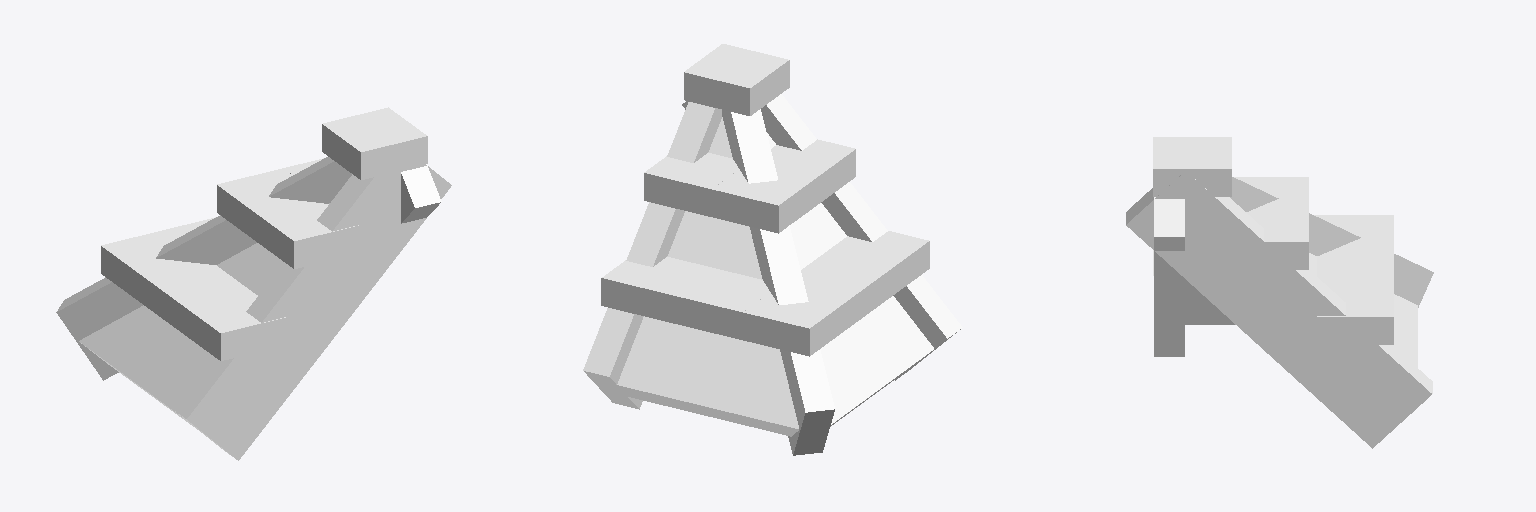
File: mt_steps_b_outer.obj
3 views of the same model, side by side, from view 1: azimuth 30°, elevation 25°; view 2: azimuth 150°, elevation 25°; view 3: azimuth 270°, elevation 25° (orthographic).
Visible parts, largest first — view 1: cube.006, cube.003, cube.007, cube.008, cube.004, cube.005, cube.001; view 2: cube.002, cube.003, cube.007, cube.008, cube, cube.004, cube.001, cube.006, cube.005, cube.000; view 3: cube.001, cube, cube.006, cube.005, cube.000, cube.008, cube.003, cube.004, cube.002, cube.007.
Part boxes in pixels (left/top/right/bottom): cube.006: left=172, top=165, right=451, bottom=460; cube.003: left=101, top=229, right=287, bottom=360; cube.007: left=79, top=203, right=329, bottom=429; cube.008: left=56, top=157, right=351, bottom=380; cube.004: left=217, top=168, right=360, bottom=268; cube.005: left=322, top=107, right=427, bottom=179; cube.001: left=401, top=164, right=441, bottom=223; cube.002: left=617, top=117, right=798, bottom=436; cube.003: left=743, top=231, right=929, bottom=356; cube.007: left=767, top=133, right=933, bottom=426; cube.008: left=722, top=109, right=834, bottom=455; cube: left=601, top=257, right=769, bottom=339; cube.004: left=712, top=139, right=855, bottom=233; cube.001: left=583, top=102, right=721, bottom=409; cube.006: left=682, top=94, right=962, bottom=380; cube.005: left=684, top=44, right=789, bottom=115; cube.000: left=644, top=153, right=738, bottom=216; cube.001: left=1126, top=171, right=1432, bottom=448; cube: left=1317, top=248, right=1393, bottom=344; cube.006: left=1154, top=197, right=1184, bottom=356; cube.005: left=1153, top=137, right=1231, bottom=196; cube.000: left=1232, top=209, right=1308, bottom=269; cube.008: left=1230, top=177, right=1433, bottom=307; cube.003: left=1153, top=215, right=1393, bottom=275; cube.004: left=1234, top=177, right=1308, bottom=208; cube.002: left=1309, top=253, right=1417, bottom=367; cube.007: left=1185, top=279, right=1234, bottom=324.
Bounding box in the file's own units: 1.25 × 1.25 × 1.25.